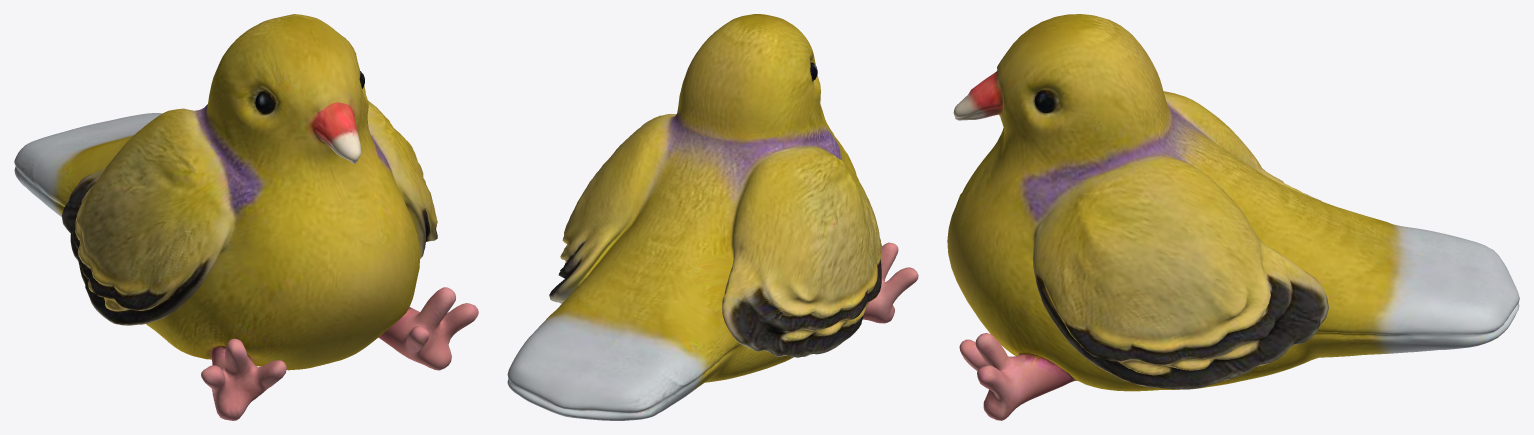
The model's file is alfred.glb.
The picture shows the model from 3 angles, left to right: view 1: azimuth 30°, elevation 25°; view 2: azimuth 150°, elevation 25°; view 3: azimuth 270°, elevation 25°; orthographic projection. The views are drawn at different scales.
Parts seen in each view (by area): view 1: alfred; view 2: alfred; view 3: alfred.
Boxes of the visible parts, x1,y1,x2,y2 form: alfred: (14,14,478,420); alfred: (507,14,918,420); alfred: (947,14,1519,420).
Size of the model in its own units: 0.5775 by 0.6004 by 0.9.
1 material, 1 textured.
